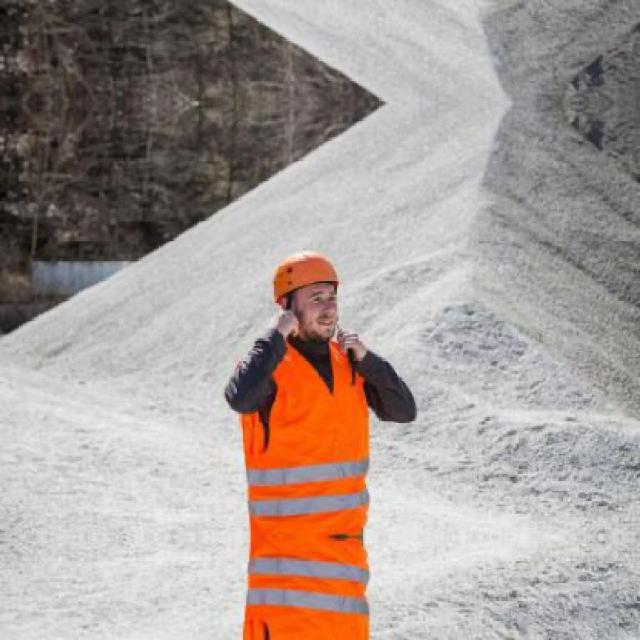con casco: (255, 245, 386, 373)
